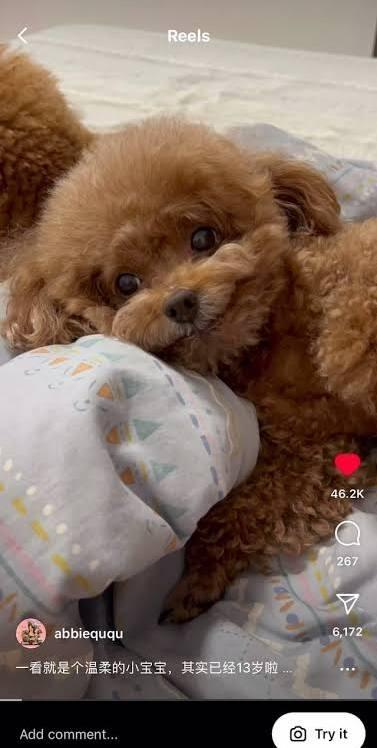adult_dog: (0, 114, 377, 627)
